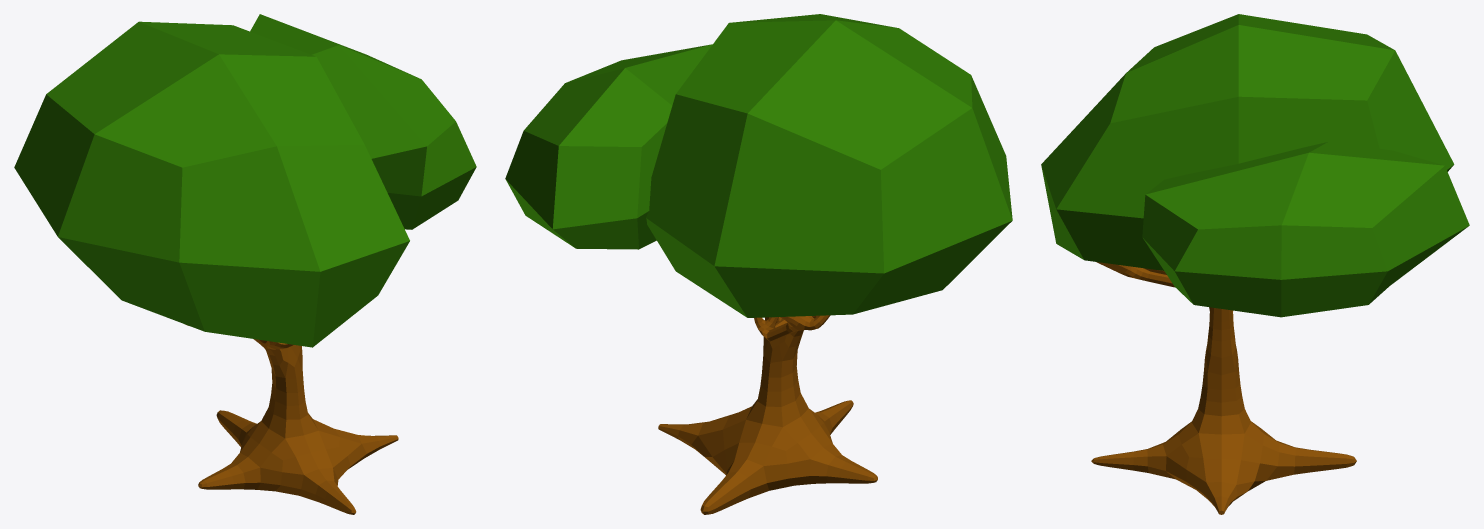
File: arbol (modelo 2).fbx
The picture shows the model from 3 angles, left to right: view 1: azimuth 30°, elevation 25°; view 2: azimuth 150°, elevation 25°; view 3: azimuth 270°, elevation 25°; orthographic projection. The views are drawn at different scales.
Visible parts, largest first — view 1: Cube.001, Cube, tronco; view 2: Cube.001, Cube, tronco; view 3: Cube.001, Cube, tronco.
Boxes of the visible parts, left/top/right/bottom form: Cube.001: left=14, top=21, right=409, bottom=347; Cube: left=250, top=14, right=476, bottom=229; tronco: left=187, top=325, right=398, bottom=514; Cube.001: left=646, top=14, right=1012, bottom=317; Cube: left=505, top=44, right=712, bottom=249; tronco: left=658, top=315, right=877, bottom=514; Cube.001: left=1041, top=14, right=1454, bottom=270; Cube: left=1142, top=142, right=1469, bottom=317; tronco: left=1091, top=262, right=1356, bottom=514.
Size of the model in its own units: 546 by 559 by 515.
